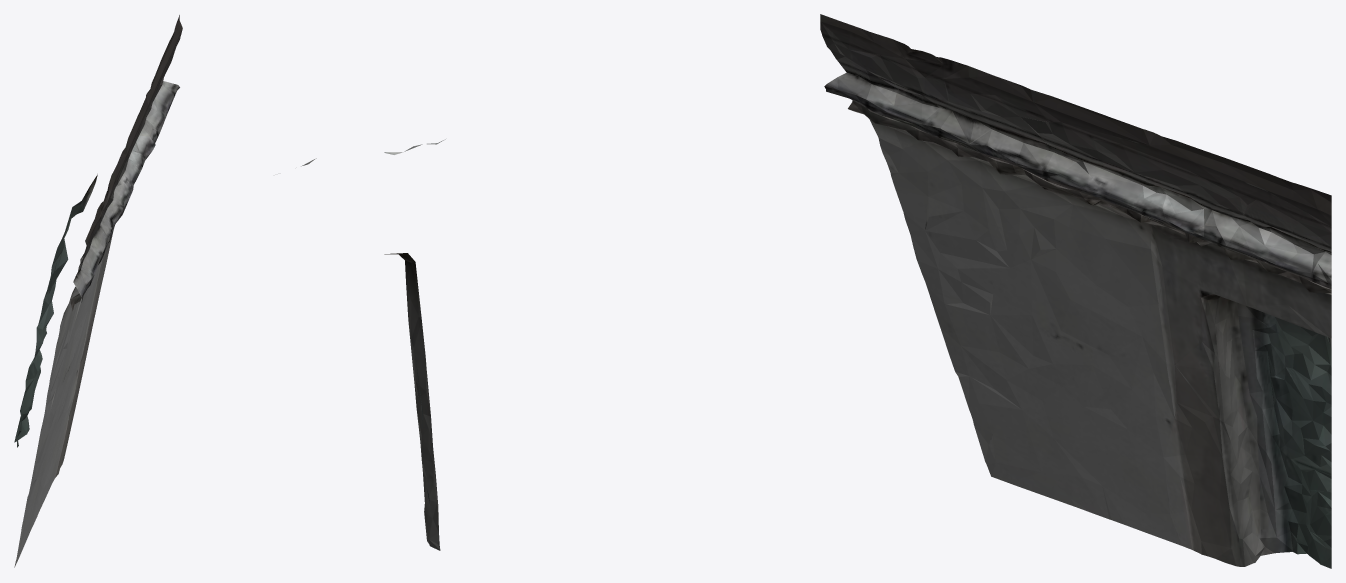
3 renders of one model, left to right at view 1: azimuth 30°, elevation 25°; view 2: azimuth 150°, elevation 25°; view 3: azimuth 270°, elevation 25°, orthographic. The views are drawn at different scales.
Bounding box in the file's own units: 1.42 × 1.67 × 1.67.
3 materials, 3 textured.
